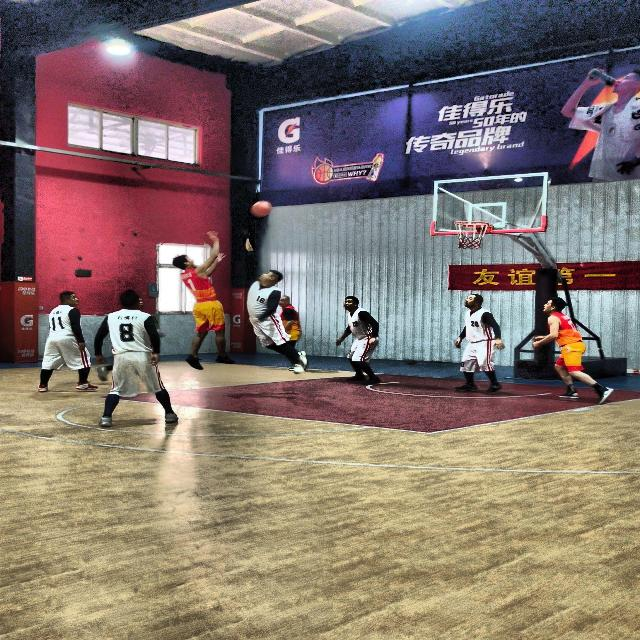board: (250, 200, 272, 218)
